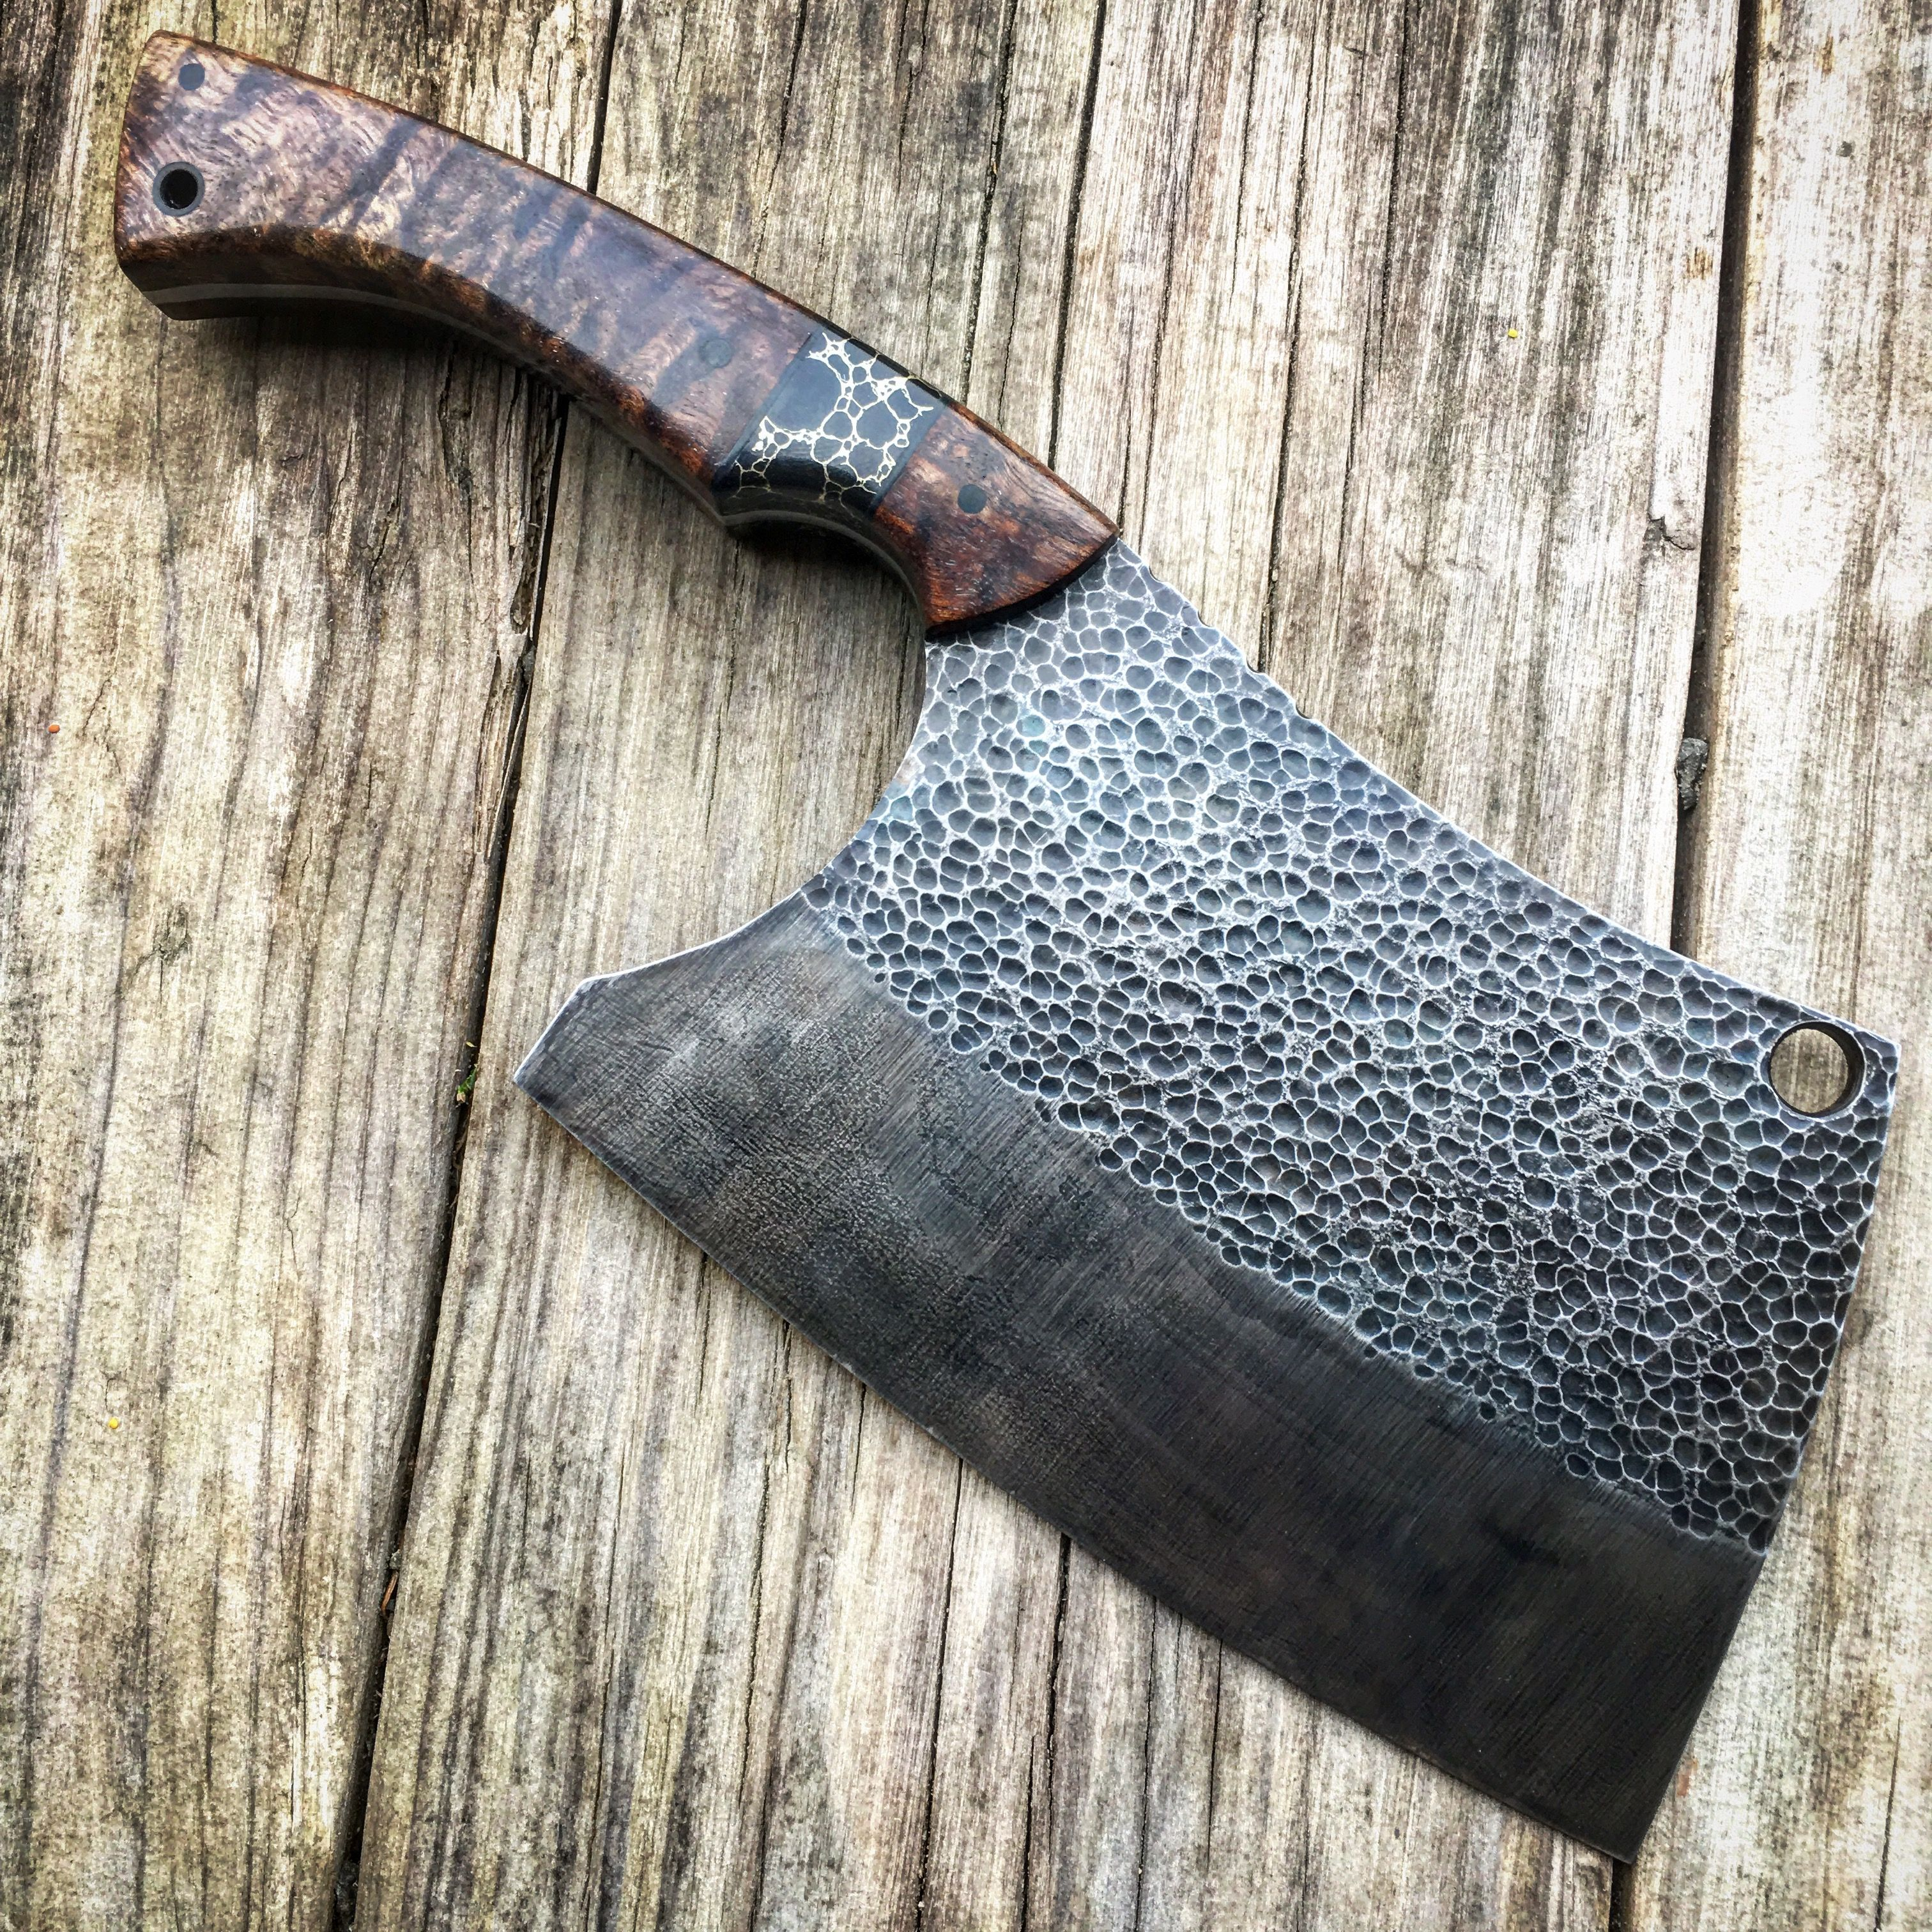knife: (90, 14, 1913, 1882)
